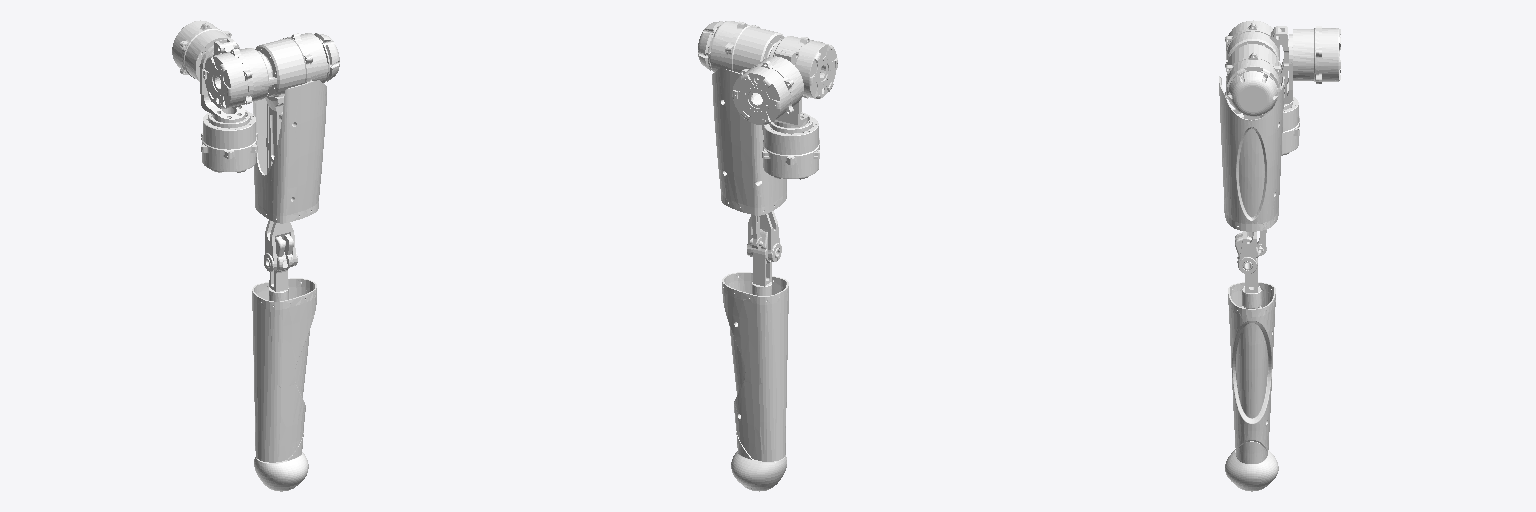
The robot description file, URDF, robot "left_hand":
<?xml version="1.0" encoding="utf-8" ?>
<!-- This URDF was automatically created by SolidWorks to URDF Exporter! Originally created by [author] ([email redacted]) 
     Commit Version: 1.5.0-0-g9aa0fdb  Build Version: 1.5.7004.21443
     For more information, please see http://wiki.ros.org/sw_urdf_exporter -->
<robot name="left_hand">
    <!--<link name="base_link" />
  <joint name="base_link-base_fixed_joint" type="fixed">
    <origin  xyz="0. 0. 0." rpy="0. 0. 0.">
    <parent link="base_link">
    <child link="baselink">
  </joint>-->
    <link name="baselink">
        
<inertial>
            <origin xyz="9.2808E-05 2.8344E-05 -0.02599" rpy="0 0 0" />
            <mass value="0.055289" />
            <inertia ixx="4.2962E-05" ixy="2.1289E-08" ixz="7.1999E-08" iyy="4.3085E-05" iyz="4.8986E-08" izz="3.9367E-05" />
        </inertial>

        <visual>
            <origin xyz="0 0 0" rpy="0 0 0" />
            <geometry>
                <mesh filename="package://left_hand/meshes/baselink.STL" />
            </geometry>
            <material name="white">
                <color rgba="1 1 1 1" />
            </material>
        </visual>
        <collision>
            <origin xyz="0 0 0" rpy="0 0 0" />
            <geometry>
                <mesh filename="package://left_hand/meshes/baselink.STL" />
            </geometry>
        </collision>
    </link>
    <joint name="AJOINT" type="revolute">
        <origin xyz="0 0 0" rpy="0 0 0" />
        <parent link="baselink" />
        <child link="B" />
        <axis xyz="0 0 -1" />
        <limit lower="-3.1415926" upper="3.1415926" effort="28" velocity="3.5" />
    </joint>
    <link name="B">
        
<inertial>
            <origin xyz="-1.1589E-07 0.039607 0.049719" rpy="0 0 0" />
            <mass value="0.073171" />
            <inertia ixx="9.6616E-05" ixy="-3.7441E-10" ixz="-1.2139E-08" iyy="7.621E-05" iyz="-2.5033E-05" izz="6.6682E-05" />
        </inertial>

        <visual>
            <origin xyz="0 0 0" rpy="0 0 0" />
            <geometry>
                <mesh filename="package://left_hand/meshes/B.STL" />
            </geometry>
            <material name="">
                <color rgba="1 1 1 1" />
            </material>
        </visual>
        <collision>
            <origin xyz="0 0 0" rpy="0 0 0" />
            <geometry>
                <mesh filename="package://left_hand/meshes/B.STL" />
            </geometry>
        </collision>
    </link>
    <joint name="BJOINT" type="revolute">
        <origin xyz="0 0 0.0615" rpy="1.5708 0 0" />
        <parent link="B" />
        <child link="C" />
        <axis xyz="0 0 -1" />
        <limit lower="-3.1415926" upper="3.1415926" effort="28" velocity="3" />
    </joint>
    <link name="C">
        
<inertial>
            <origin xyz="0.0017981 -4.4E-06 0.016039" rpy="0 0 0" />
            <mass value="0.069017" />
            <inertia ixx="6.1451E-05" ixy="3.4922E-08" ixz="-1.2705E-06" iyy="5.9562E-05" iyz="-6.3269E-08" izz="4.968E-05" />
        </inertial>

        <visual>
            <origin xyz="0 0 0" rpy="0 0 0" />
            <geometry>
                <mesh filename="package://left_hand/meshes/C.STL" />
            </geometry>
            <material name="">
                <color rgba="1 1 1 1" />
            </material>
        </visual>
        <collision>
            <origin xyz="0 0 0" rpy="0 0 0" />
            <geometry>
                <mesh filename="package://left_hand/meshes/C.STL" />
            </geometry>
        </collision>
    </link>
    <joint name="CJOINT" type="revolute">
        <origin xyz="0 0 0.0235" rpy="0 1.5708 0" />
        <parent link="C" />
        <child link="D" />
        <axis xyz="0 0 -1" />
        <limit lower="-3.1415926" upper="3.1415926" effort="28" velocity="3" />
    </joint>
    <link name="D">
        
<inertial>
            <origin xyz="-0.0013073 -0.076946 0.069296" rpy="0 0 0" />
            <mass value="0.24687" />
            <inertia ixx="0.0016642" ixy="-2.4544E-05" ixz="-1.1677E-06" iyy="0.00027122" iyz="-0.00014606" izz="0.0015866" />
        </inertial>

        <visual>
            <origin xyz="0 0 0" rpy="0 0 0" />
            <geometry>
                <mesh filename="package://left_hand/meshes/D.STL" />
            </geometry>
            <material name="">
                <color rgba="1 1 1 1" />
            </material>
        </visual>
        <collision>
            <origin xyz="0 0 0" rpy="0 0 0" />
            <geometry>
                <mesh filename="package://left_hand/meshes/D.STL" />
            </geometry>
        </collision>
    </link>
    <joint name="DJOINT" type="revolute">
        <origin xyz="-0.0065442 -0.24991 0.053" rpy="0 0 -0.02618" />
        <parent link="D" />
        <child link="E" />
        <axis xyz="0 0 1" />
        <limit lower="-3.1415926" upper="3.1415926" effort="28" velocity="3" />
    </joint>
    <link name="E">
        
<inertial>
            <origin xyz="0.0097542 -0.18871 0.0042571" rpy="0 0 0" />
            <mass value="0.25604" />
            <inertia ixx="0.0024683" ixy="7.3774E-05" ixz="-4.1995E-07" iyy="0.0001277" iyz="9.9536E-06" izz="0.0024512" />
        </inertial>

        <visual>
            <origin xyz="0 0 0" rpy="0 0 0" />
            <geometry>
                <mesh filename="package://left_hand/meshes/E.STL" />
            </geometry>
            <material name="">
                <color rgba="1 1 1 1" />
            </material>
        </visual>
        <collision>
            <origin xyz="0 0 0" rpy="0 0 0" />
            <geometry>
                <mesh filename="package://left_hand/meshes/E.STL" />
            </geometry>
        </collision>
    </link>
    <!--<joint name="ee_fixed_joint" type="fixed">
    <origin xyz="0 -0.24 0" rpy="0 0 0" />
    <parent link="E">
    <child link="ee_link">
  </joint>

  <link name="ee_link">
    <collision>
      <geometry>
        <box size="0.01 0.01 0.01"/>
      </geometry>
      <origin rpy="0 0 0" xyz="0 0 0"/>
    </collision>
 </link>-->
    
<transmission name="trans_AJOINT">
        <type>transmission_interface/SimpleTransmission</type>
        <joint name="AJOINT">
            <hardwareInterface>hardware_interface/EffortJointInterface</hardwareInterface>
        </joint>
        <actuator name="AJOINT_motor">
            <hardwareInterface>hardware_interface/EffortJointInterface</hardwareInterface>
            <mechanicalReduction>1</mechanicalReduction>
        </actuator>
    </transmission>
    <transmission name="trans_BJOINT">
        <type>transmission_interface/SimpleTransmission</type>
        <joint name="BJOINT">
            <hardwareInterface>hardware_interface/EffortJointInterface</hardwareInterface>
        </joint>
        <actuator name="BJOINT_motor">
            <hardwareInterface>hardware_interface/EffortJointInterface</hardwareInterface>
            <mechanicalReduction>1</mechanicalReduction>
        </actuator>
    </transmission>
    <transmission name="trans_CJOINT">
        <type>transmission_interface/SimpleTransmission</type>
        <joint name="CJOINT">
            <hardwareInterface>hardware_interface/EffortJointInterface</hardwareInterface>
        </joint>
        <actuator name="CJOINT_motor">
            <hardwareInterface>hardware_interface/EffortJointInterface</hardwareInterface>
            <mechanicalReduction>1</mechanicalReduction>
        </actuator>
    </transmission>
    <transmission name="trans_DJOINT">
        <type>transmission_interface/SimpleTransmission</type>
        <joint name="DJOINT">
            <hardwareInterface>hardware_interface/EffortJointInterface</hardwareInterface>
        </joint>
        <actuator name="DJOINT_motor">
            <hardwareInterface>hardware_interface/EffortJointInterface</hardwareInterface>
            <mechanicalReduction>1</mechanicalReduction>
        </actuator>
    </transmission>
    <gazebo>
        <plugin name="gazebo_ros_control" filename="libgazebo_ros_control.so">
            <robotNamespace>/</robotNamespace>
        </plugin>
    </gazebo>
</robot>

--- Render facts (derived) ---
Views: 3 orthographic renders of the robot side by side, from view 1: azimuth 30°, elevation 25°; view 2: azimuth 150°, elevation 25°; view 3: azimuth 270°, elevation 25°.
Model left_hand with 5 links and 4 joints (4 revolute), rooted at baselink, posed every joint at zero.
Links seen in each view (by area): view 1: D, E, C, baselink, B; view 2: E, D, B, baselink, C; view 3: D, E, B, C, baselink.
Link boxes in pixels (<box>): D: <box>253,33,339,271</box>; E: <box>252,234,316,491</box>; C: <box>203,38,276,108</box>; baselink: <box>201,110,257,172</box>; B: <box>172,20,245,122</box>; E: <box>722,229,788,491</box>; D: <box>698,21,786,261</box>; B: <box>732,56,807,127</box>; baselink: <box>762,112,819,179</box>; C: <box>769,36,837,98</box>; D: <box>1219,44,1284,273</box>; E: <box>1225,232,1278,491</box>; B: <box>1280,26,1340,104</box>; C: <box>1225,20,1288,83</box>; baselink: <box>1260,97,1299,155</box>.
Bounding box of the posed robot: 0.1662 × 0.1487 × 0.5937 m (x, y, z).
Meshes: 5 distinct files referenced, 5 mesh visuals loaded (5 binary STL).